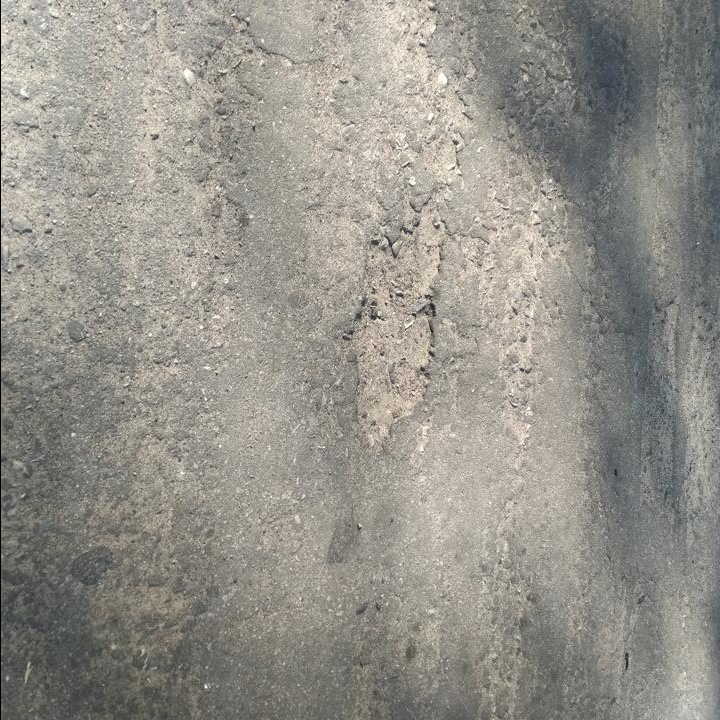pothole: (342, 196, 449, 448)
